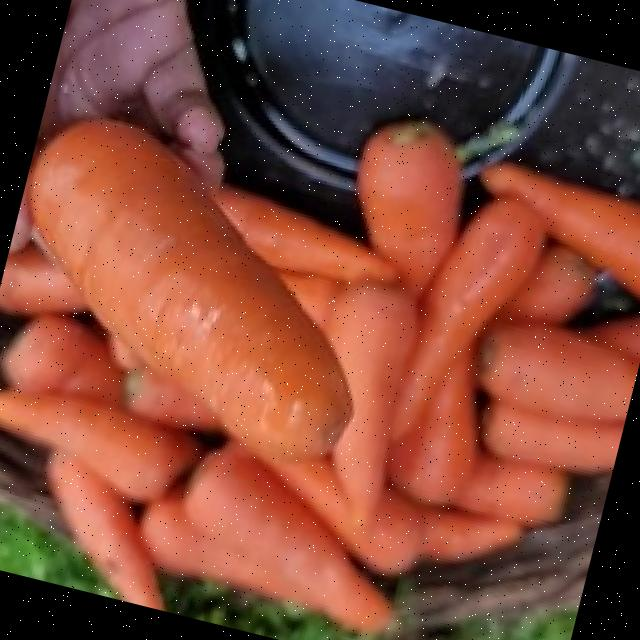carrot: (0, 125, 640, 635), (33, 125, 351, 463)
